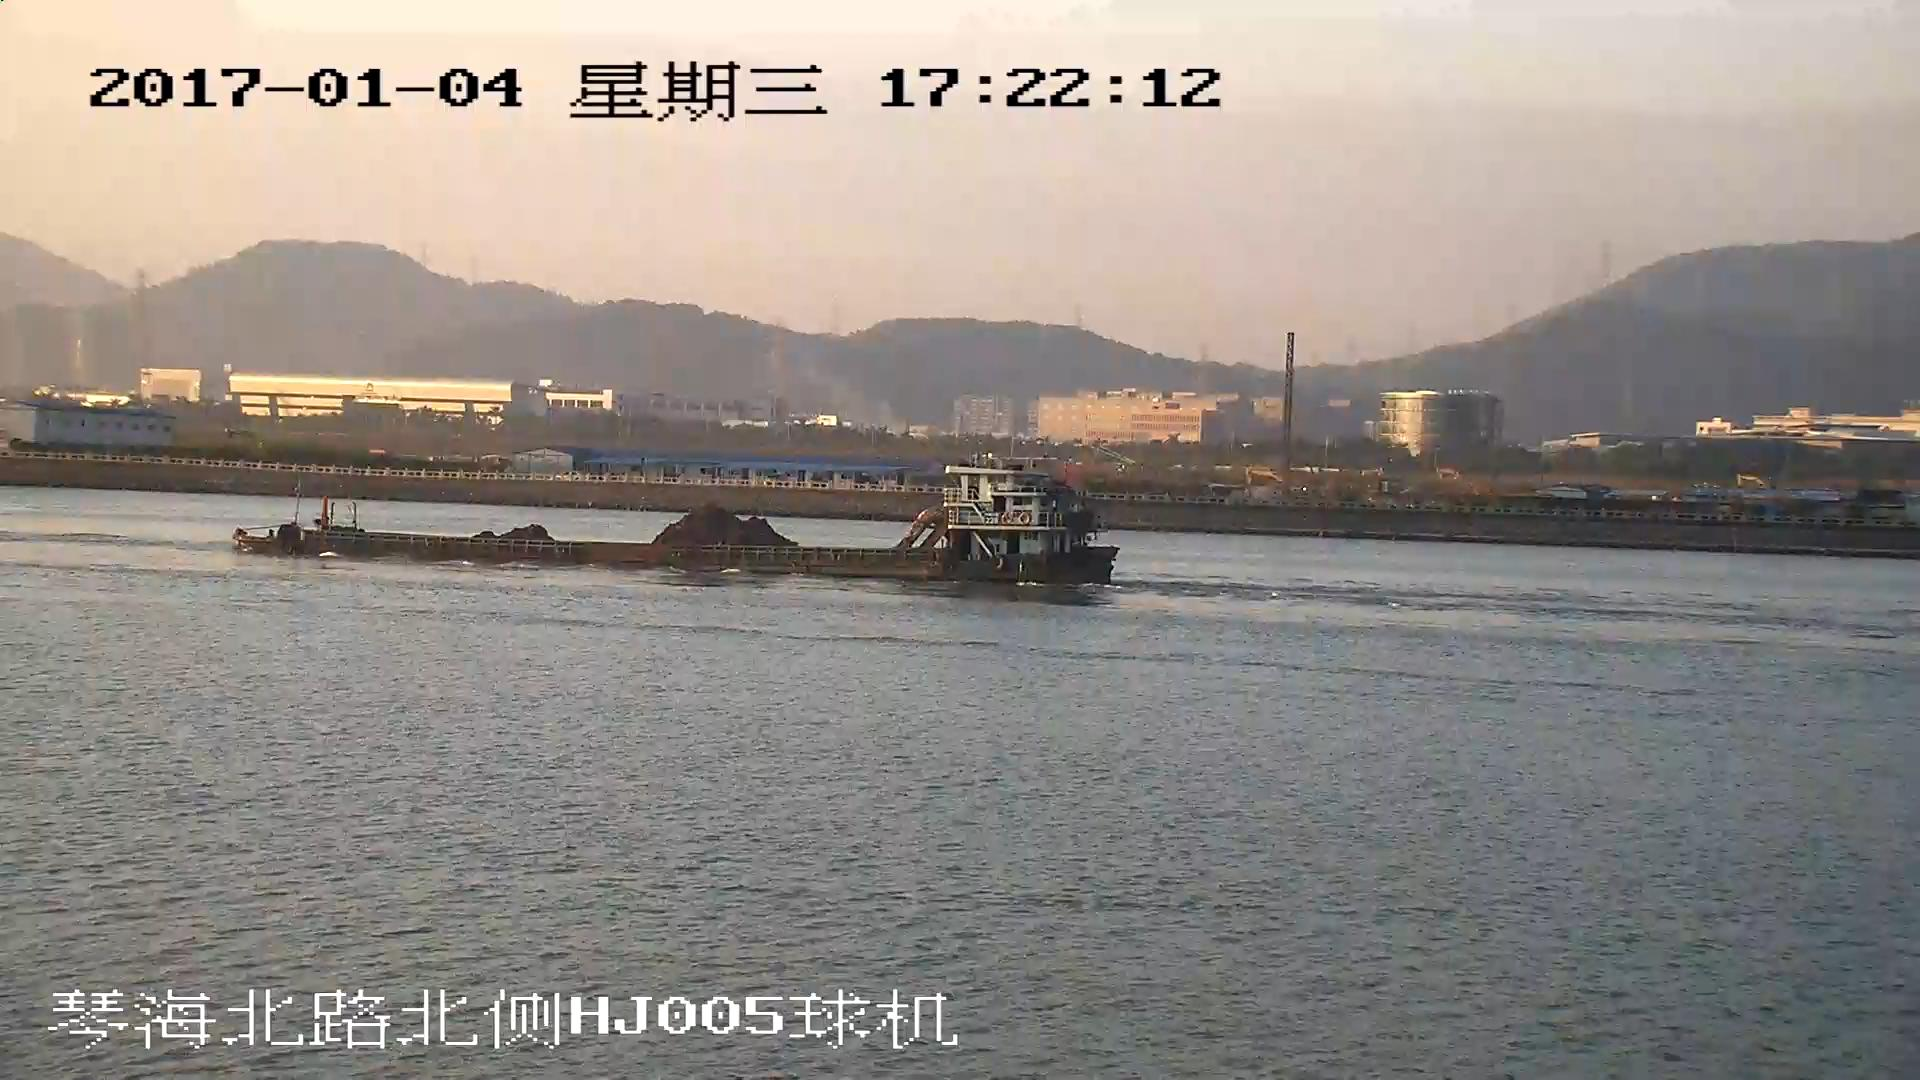ore carrier: (238, 463, 1118, 583)
